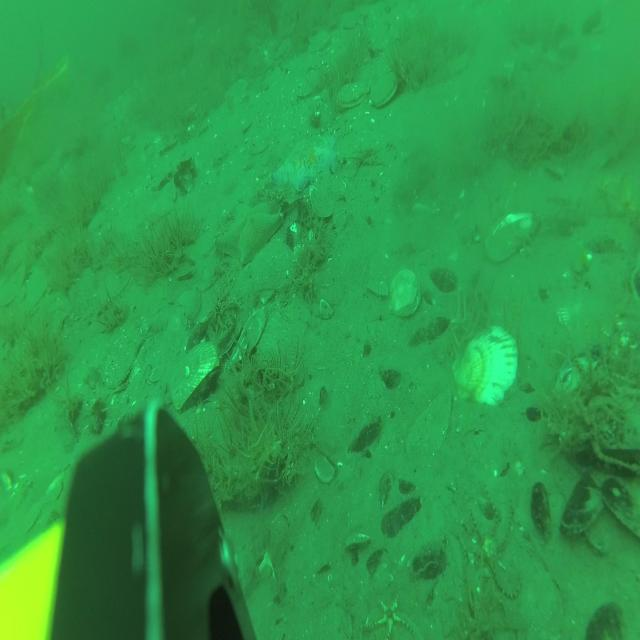scallop: (452, 326, 518, 404), (170, 342, 217, 410), (485, 212, 536, 262), (103, 336, 134, 390), (385, 268, 419, 314), (370, 70, 400, 106), (336, 79, 364, 104)
starfish: (217, 194, 281, 263), (269, 130, 339, 188)
